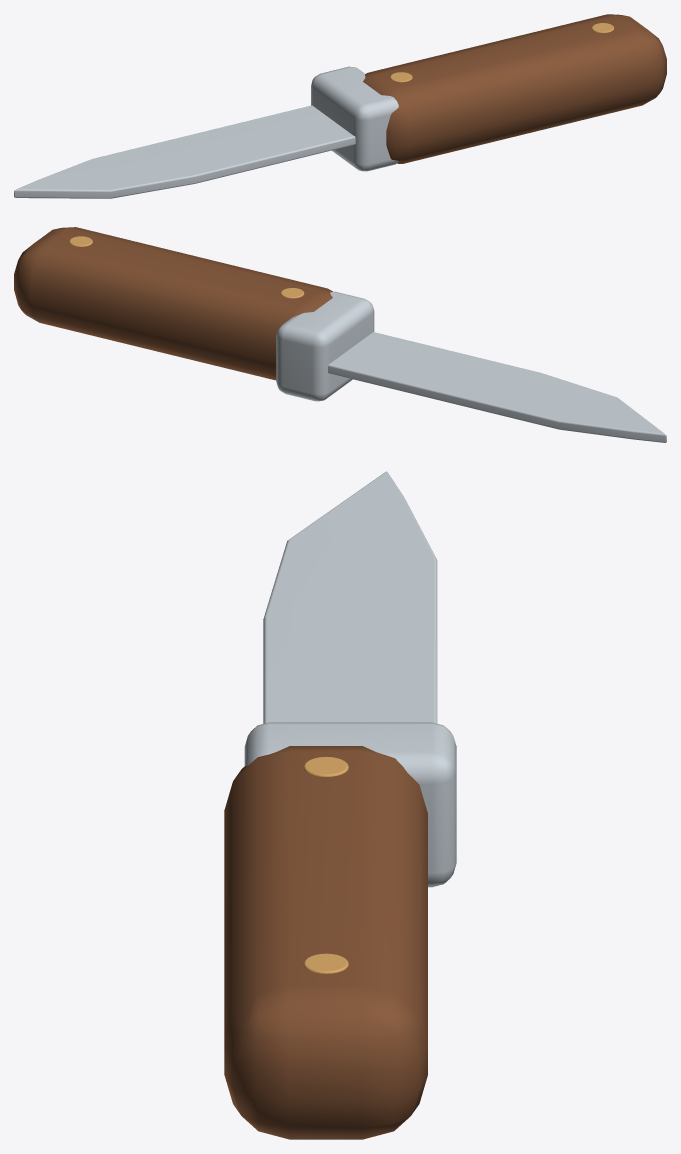
Rendered from ParingKnife.glb.
3 renders of one model, top to bottom at view 1: azimuth 30°, elevation 25°; view 2: azimuth 150°, elevation 25°; view 3: azimuth 270°, elevation 25°, orthographic. The views are drawn at different scales.
Parts seen in each view (by area): view 1: Contoured grip.003, Ground blade.003, Bolster.003; view 2: Contoured grip.003, Ground blade.003, Bolster.003; view 3: Contoured grip.003, Ground blade.003, Bolster.003.
Part boxes in pixels (x1,y1,x2,y2): Contoured grip.003: [363, 14, 666, 163]; Ground blade.003: [14, 105, 355, 198]; Bolster.003: [311, 66, 398, 171]; Contoured grip.003: [14, 227, 332, 380]; Ground blade.003: [328, 332, 666, 442]; Bolster.003: [276, 291, 374, 401]; Contoured grip.003: [224, 746, 427, 1139]; Ground blade.003: [263, 471, 437, 723]; Bolster.003: [244, 722, 456, 887].
Size of the model in its own units: 0.1768 by 0.0205 by 0.0285.
